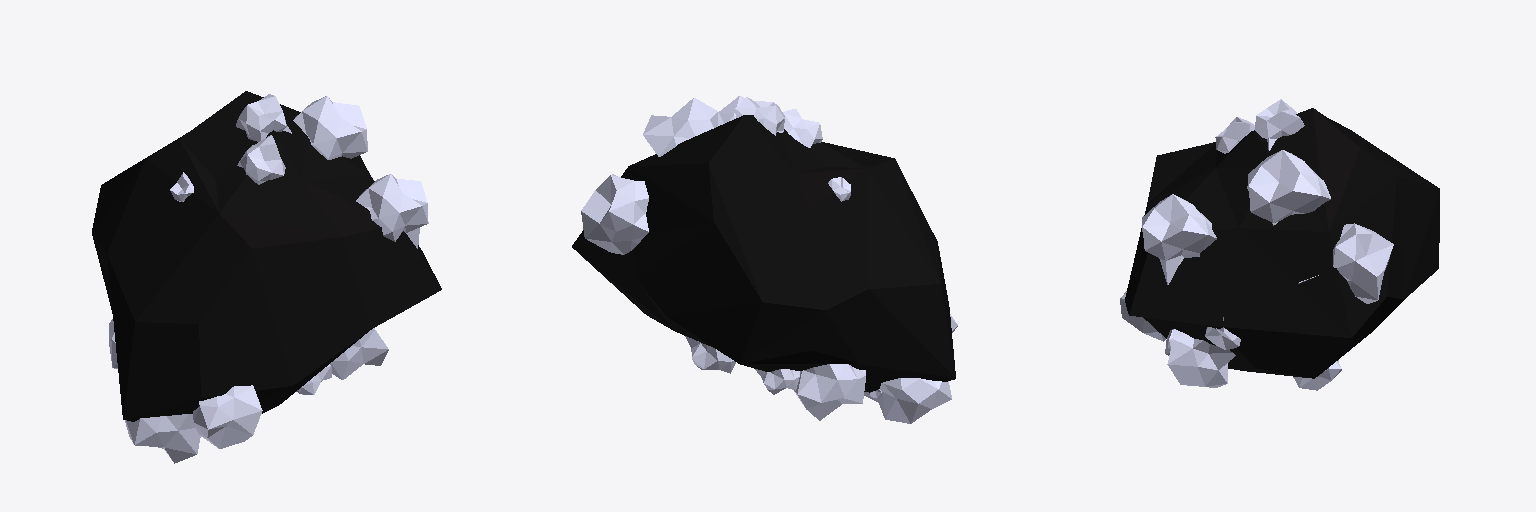
Rendered from Metal8.obj.
3 renders of one model, left to right at view 1: azimuth 30°, elevation 25°; view 2: azimuth 150°, elevation 25°; view 3: azimuth 270°, elevation 25°, orthographic.
Visible parts, largest first — view 1: Icosphere.013_Icosphere.015, Icosphere.015_Icosphere.018; view 2: Icosphere.013_Icosphere.015, Icosphere.015_Icosphere.018; view 3: Icosphere.013_Icosphere.015, Icosphere.015_Icosphere.018.
Boxes of the visible parts, x1,y1,x2,y2 form: Icosphere.013_Icosphere.015: [92, 91, 441, 421]; Icosphere.015_Icosphere.018: [109, 94, 428, 463]; Icosphere.013_Icosphere.015: [572, 115, 955, 392]; Icosphere.015_Icosphere.018: [581, 96, 957, 423]; Icosphere.013_Icosphere.015: [1125, 108, 1439, 378]; Icosphere.015_Icosphere.018: [1120, 99, 1393, 390].
Bounding box in the file's own units: 1.48 × 1.36 × 1.27.